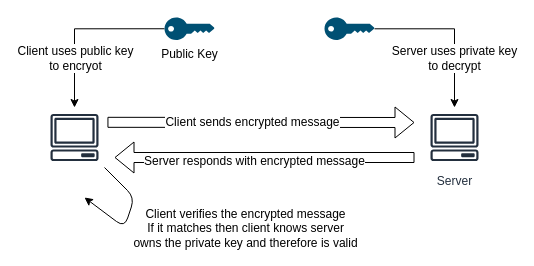
The diagram is 534 pixels wide and 266 high, and some of its shapes have lost their labels. Here are the shapes that lost their labels. From the top down, the centre of each, then its label:
At (349,28): "Private Key".
At (74,137): "Client".
